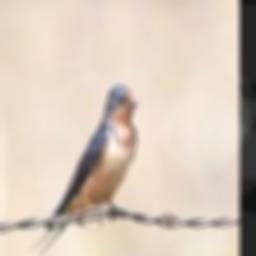Swallow: (28, 85, 139, 252)
